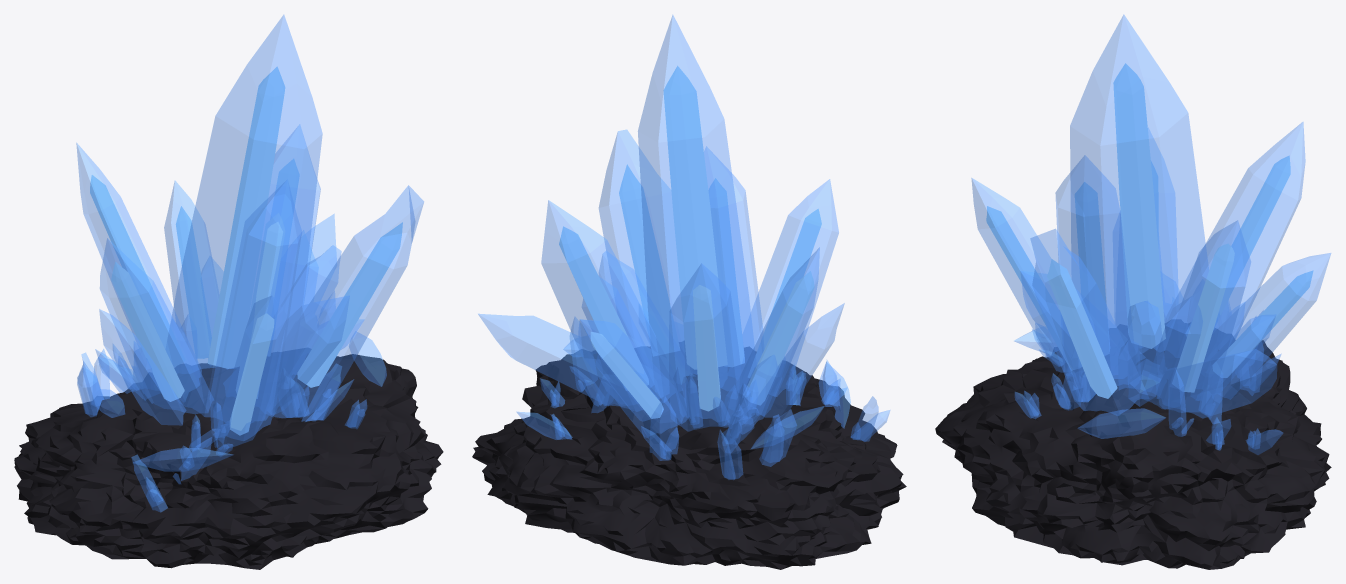
File: Crystals_01_quest.glb
3 renders of one model, left to right at view 1: azimuth 30°, elevation 25°; view 2: azimuth 150°, elevation 25°; view 3: azimuth 270°, elevation 25°, orthographic. The views are drawn at different scales.
Parts seen in each view (by area): view 1: Crystals_01_Crystals, Crystals_01_Rock, Crystals_01_Cores; view 2: Crystals_01_Crystals, Crystals_01_Rock, Crystals_01_Cores; view 3: Crystals_01_Crystals, Crystals_01_Rock, Crystals_01_Cores.
Boxes of the visible parts, x1,y1,x2,y2 form: Crystals_01_Crystals: (76,15,423,512); Crystals_01_Rock: (14,354,443,569); Crystals_01_Cores: (90,66,402,435); Crystals_01_Crystals: (478,15,890,479); Crystals_01_Rock: (472,347,906,569); Crystals_01_Cores: (559,66,821,418); Crystals_01_Crystals: (971,14,1330,454); Crystals_01_Rock: (935,335,1331,569); Crystals_01_Cores: (986,63,1313,398).
Size of the model in its own units: 5.25 by 5.95 by 4.43.
